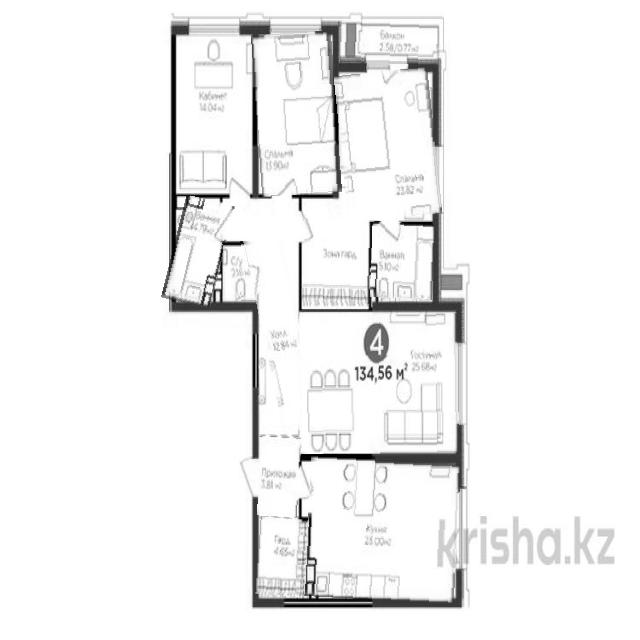balcony: (341, 21, 439, 65)
bathroom: (167, 197, 229, 307), (371, 222, 435, 300), (223, 242, 258, 302)
hallway: (248, 200, 310, 432), (259, 435, 301, 516)
kitchen: (306, 455, 460, 602)
living_room: (300, 314, 458, 454), (337, 69, 439, 220), (254, 31, 340, 196), (176, 30, 254, 193)
other: (303, 219, 371, 304), (257, 517, 306, 597)
